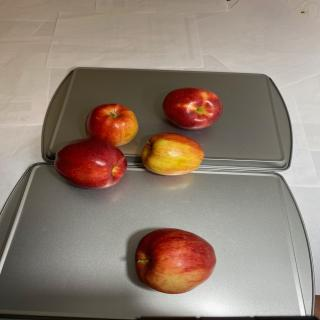Apple: (134, 228, 216, 294), (54, 138, 127, 189), (141, 132, 204, 176), (162, 87, 223, 130), (84, 103, 138, 147)
